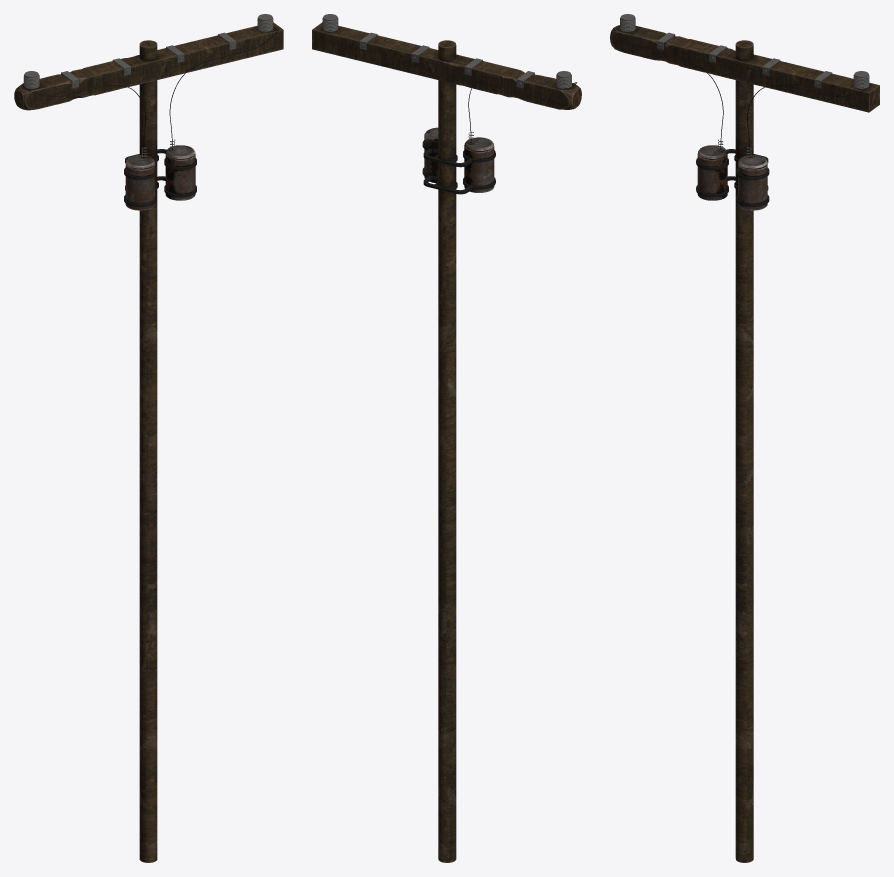
Rendered from utility_pole.glb.
3 renders of one model, left to right at view 1: azimuth 30°, elevation 25°; view 2: azimuth 150°, elevation 25°; view 3: azimuth 330°, elevation 25°, orthographic.
Parts seen in each view (by area): view 1: dock; view 2: dock; view 3: dock.
Boxes of the visible parts, x1=… form: dock: x1=14, y1=14, x2=283, y2=862; dock: x1=312, y1=14, x2=581, y2=862; dock: x1=610, y1=14, x2=879, y2=862.
Size of the model in its own units: 2 by 6 by 0.3525.
1 material, 1 textured.
